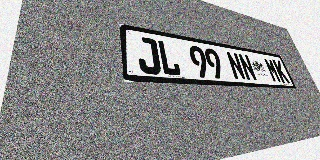9: (188, 45, 211, 78), (203, 47, 226, 79)
J: (136, 36, 162, 75)
K: (272, 59, 290, 83)
L: (157, 39, 182, 76)
M: (263, 58, 282, 83)
N: (225, 51, 247, 80), (237, 53, 258, 81)
